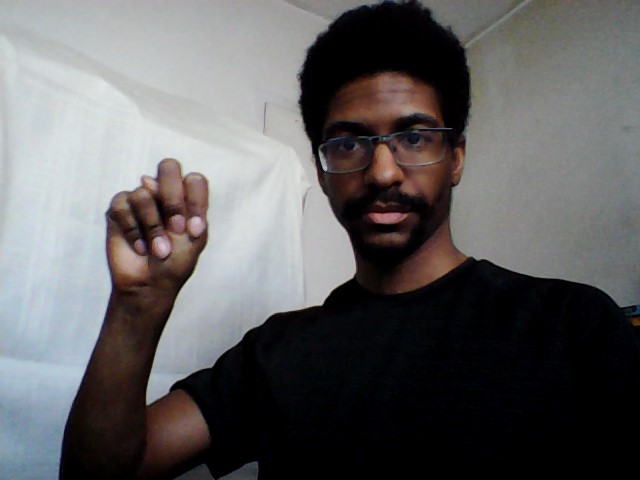n: (98, 152, 214, 292)
